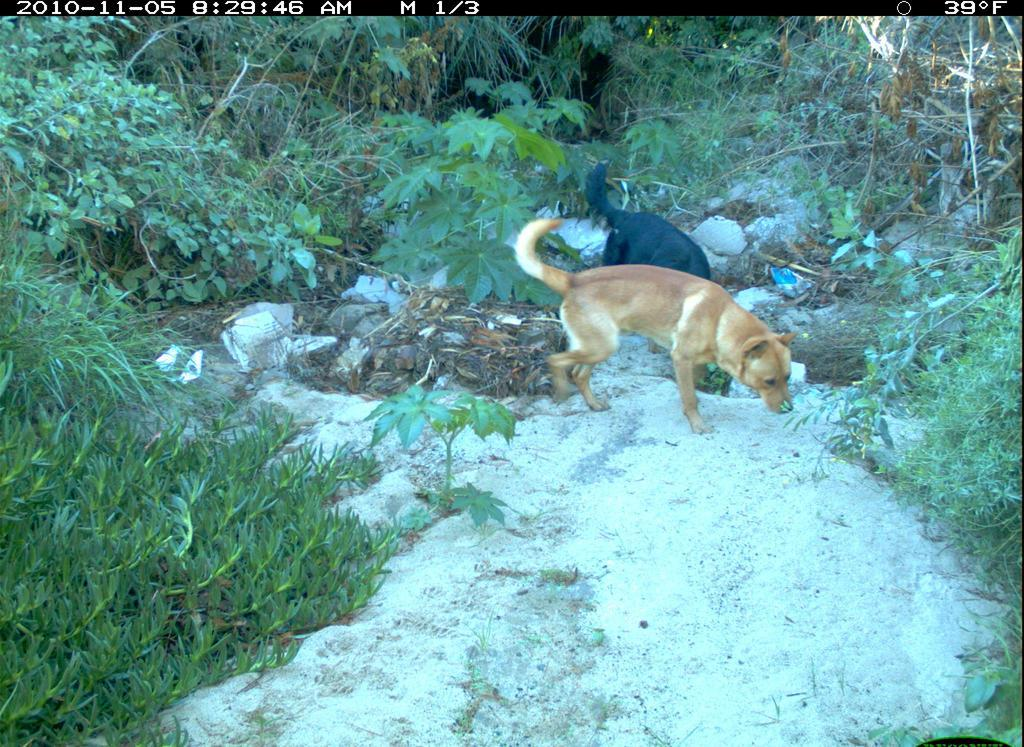dog: (483, 213, 804, 437), (583, 154, 730, 290)
